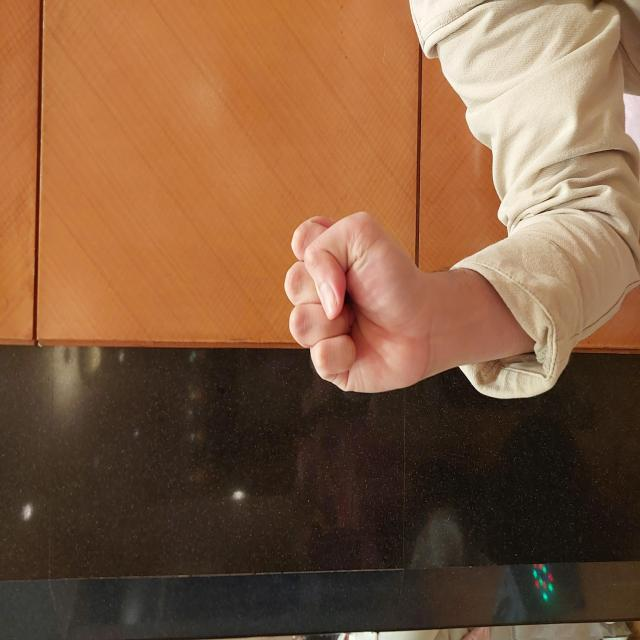S: (243, 283, 434, 433)
